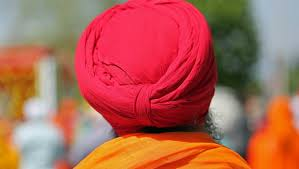helmet: (75, 1, 223, 154)
